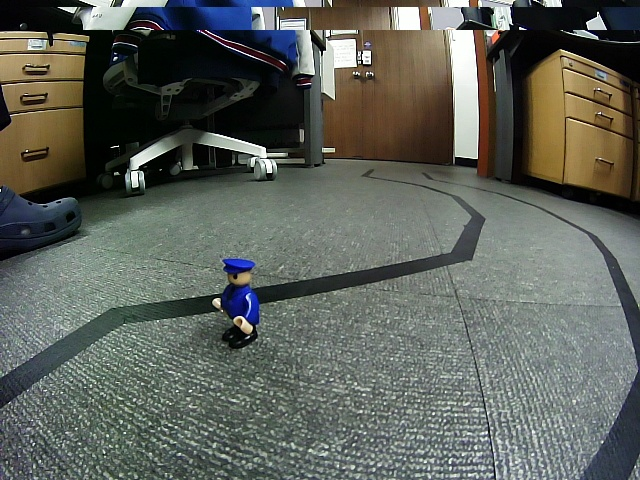person: (211, 258, 262, 349)
